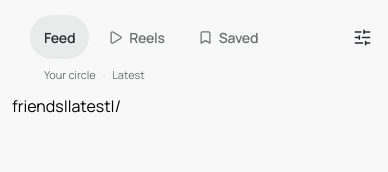
Test: has one primary row with a working Reels destination
The width and height of the screenshot is (388, 172).
Click the link "Reels".
click(136, 37)  # box x1=108 y1=28 x2=165 y2=46
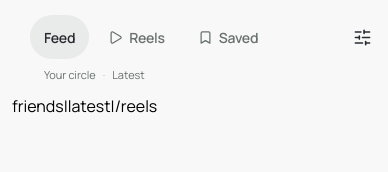
Expected: the text "friends|latest|/reels" is shown, x1=12 y1=94 x2=157 y2=116
